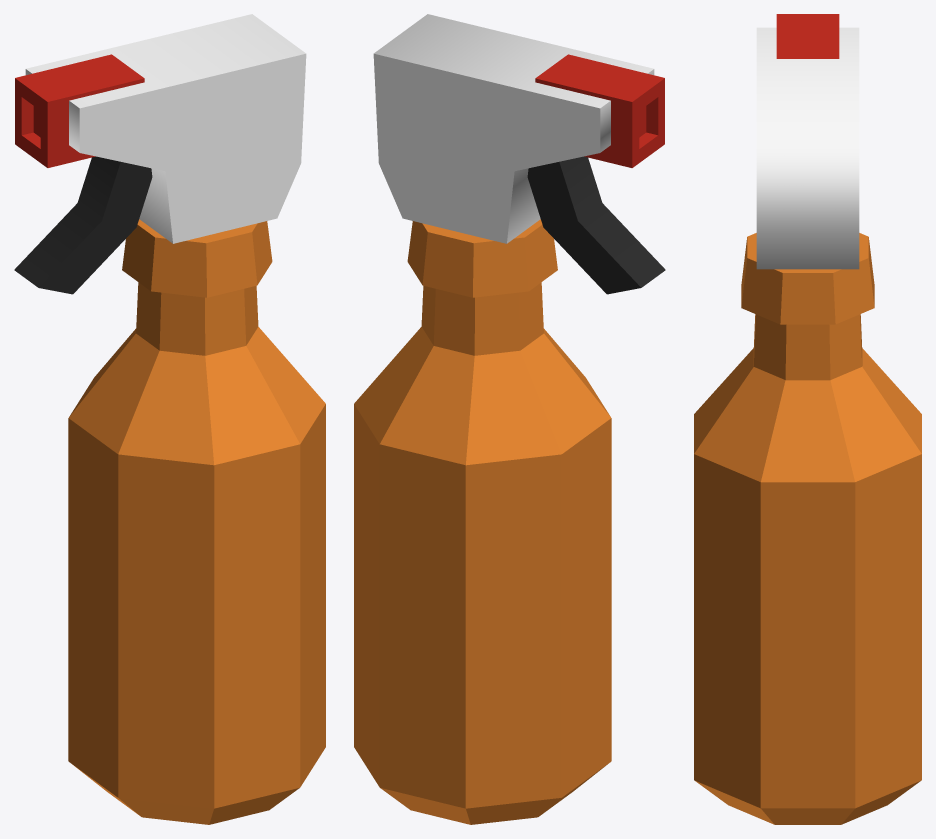
The model's file is mesh_cleaning_sprayBottle.fbx.
3 views of the same model, side by side, from view 1: azimuth 30°, elevation 25°; view 2: azimuth 150°, elevation 25°; view 3: azimuth 270°, elevation 25° (orthographic). The views are drawn at different scales.
Parts seen in each view (by area): view 1: mesh_spray_01; view 2: mesh_spray_01; view 3: mesh_spray_01.
Part boxes in pixels (<box>): mesh_spray_01: <box>14,14,325,824</box>; mesh_spray_01: <box>354,14,665,824</box>; mesh_spray_01: <box>694,14,921,824</box>.
Size of the model in its own units: 4.18 by 10.72 by 3.16.
